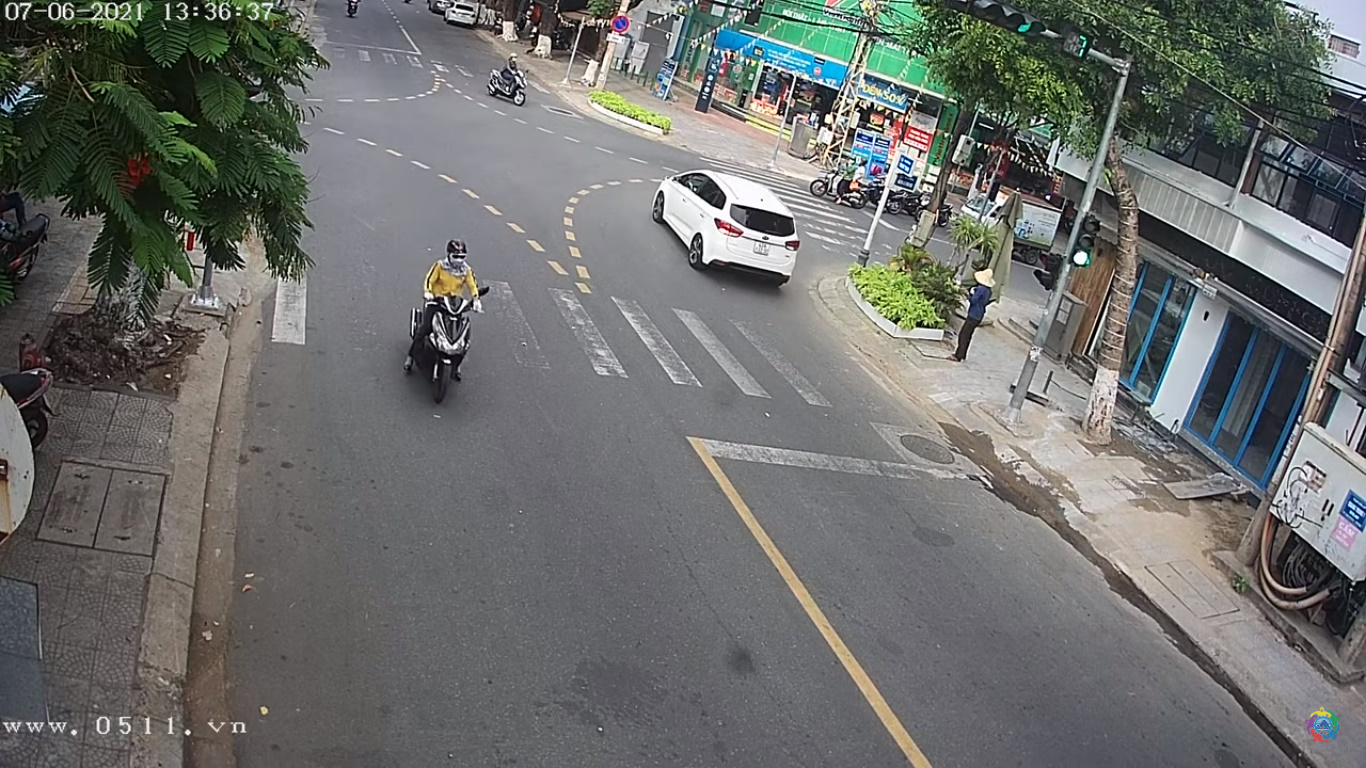car: (649, 170, 804, 280)
